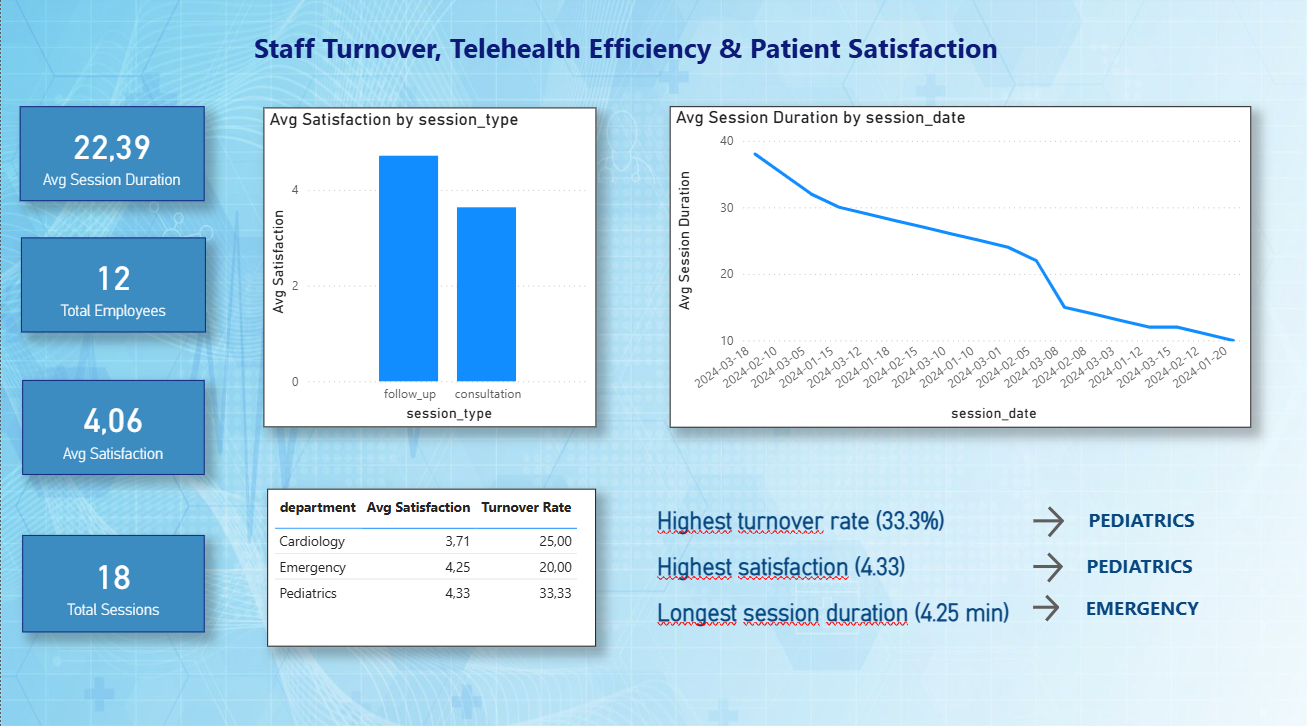

Layout of this report page (visuals, bound fields, positions):
{"tool":"powerbi","page":{"name":"Page 1","canvas":[1280,720],"ordinal":0},"visuals":[{"type":"card","fields":{"Values":["staff_data.Total Employees"]},"box":[19.6,237.2,181,92.9],"z":0},{"type":"card","fields":{"Values":["telehealth_data.Total Sessions"]},"box":[20.8,528.3,178.5,95.4],"z":1000},{"type":"card","fields":{"Values":["telehealth_data.Avg Session Duration"]},"box":[18.3,108.8,181,92.9],"z":2000},{"type":"card","fields":{"Values":["telehealth_data.Avg Satisfaction"]},"box":[20.8,376.6,178.5,92.9],"z":3000},{"type":"lineChart","fields":{"Category":["telehealth_data.session_date"],"Y":["telehealth_data.Avg Session Duration"]},"box":[654.2,108.8,568.6,314.3],"z":4000},{"type":"clusteredColumnChart","fields":{"Category":["telehealth_data.session_type"],"Y":["telehealth_data.Avg Satisfaction"]},"box":[256.8,110.1,325.3,313],"z":5000},{"type":"tableEx","fields":{"Values":["staff_data.department","telehealth_data.Avg Satisfaction","staff_data.Turnover Rate"]},"box":[260.5,483,321.6,154.1],"z":6000},{"type":"textbox","box":[193.2,28.1,836.4,72.1],"z":7000},{"type":"textbox","box":[637.1,495.2,357.1,154.1],"z":8000},{"type":"textbox","box":[1019.8,495.2,192,35.5],"z":9000},{"type":"textbox","box":[1027.2,540.5,178.5,47.7],"z":10000},{"type":"textbox","box":[1027.2,582.1,178.5,35.5],"z":11000},{"type":"actionButton","box":[1003.9,582.1,78.3,35.5],"z":12000},{"type":"actionButton","box":[1003.9,540.5,96.6,39.1],"z":13000},{"type":"actionButton","box":[1003.9,495.2,100.3,40.4],"z":14000}]}

Visuals, with their boxes in screenshot pixels (x1, y1, x2, y2), scaled from the page's 1280x720 canvas onto the 1307x726 screenshot:
card - staff_data.Total Employees: [left=20, top=239, right=205, bottom=333]
card - telehealth_data.Total Sessions: [left=21, top=533, right=204, bottom=629]
card - telehealth_data.Avg Session Duration: [left=19, top=110, right=204, bottom=203]
card - telehealth_data.Avg Satisfaction: [left=21, top=380, right=204, bottom=473]
lineChart - telehealth_data.session_date x telehealth_data.Avg Session Duration: [left=668, top=110, right=1249, bottom=427]
clusteredColumnChart - telehealth_data.session_type x telehealth_data.Avg Satisfaction: [left=262, top=111, right=594, bottom=427]
tableEx - staff_data.department x telehealth_data.Avg Satisfaction: [left=266, top=487, right=594, bottom=642]
textbox: [left=197, top=28, right=1051, bottom=101]
textbox: [left=651, top=499, right=1015, bottom=655]
textbox: [left=1041, top=499, right=1237, bottom=535]
textbox: [left=1049, top=545, right=1231, bottom=593]
textbox: [left=1049, top=587, right=1231, bottom=623]
actionButton: [left=1025, top=587, right=1105, bottom=623]
actionButton: [left=1025, top=545, right=1124, bottom=584]
actionButton: [left=1025, top=499, right=1127, bottom=540]
